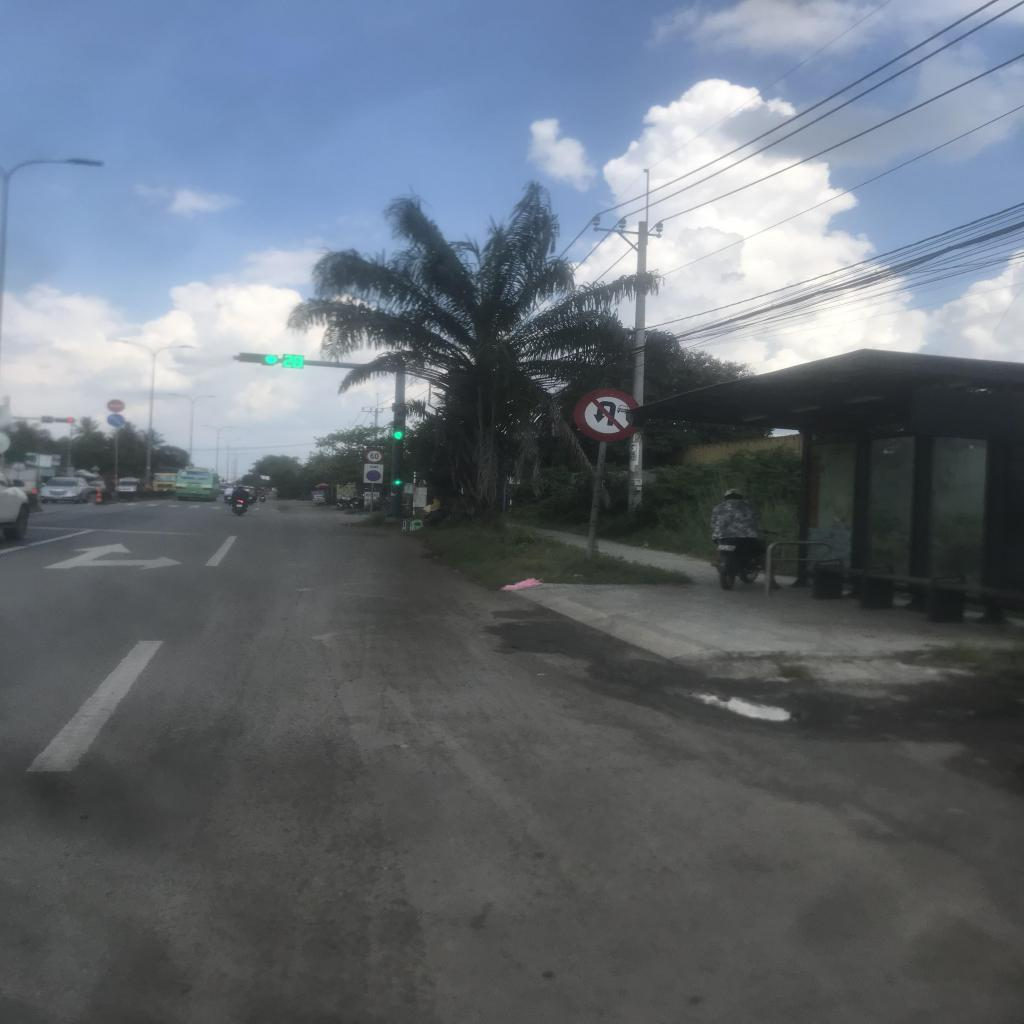cam_do_xe: (366, 469, 381, 483)
cam_o_to_quay_dau_xe: (575, 387, 640, 444)
cam_xe_di_nguoc_chieu: (108, 400, 126, 412)
huong_phai_di_vuot_chuong_ngai_vat_phai: (108, 414, 126, 426)
toc_do_toi_da_60: (365, 448, 385, 463)
